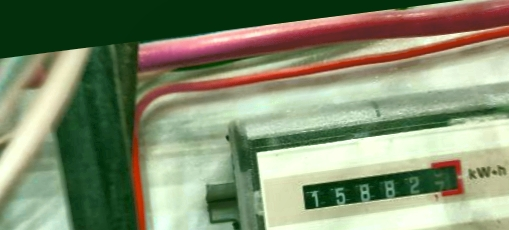1: (308, 188, 319, 207)
2: (406, 174, 421, 195)
5: (330, 185, 346, 206)
7: (431, 178, 444, 191)
8: (380, 177, 396, 199), (357, 181, 371, 202)
screen: (295, 157, 467, 218)
